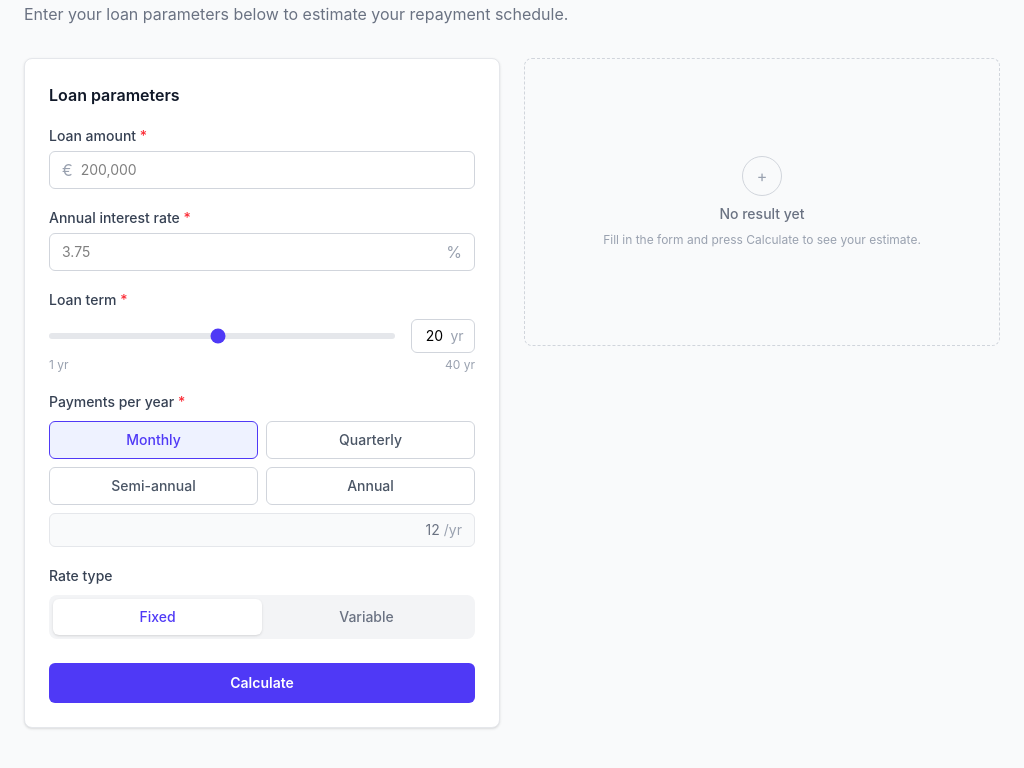
Test: CalculatorPage auto-scroll to result › does not scroll when validation fails and there is no result
The width and height of the screenshot is (1024, 768).
(page scrolled)
What coordinates should you click on to do the following:
click the button "Calculate"
I would click on:
 (262, 683)
Its box is [49,663,475,703].
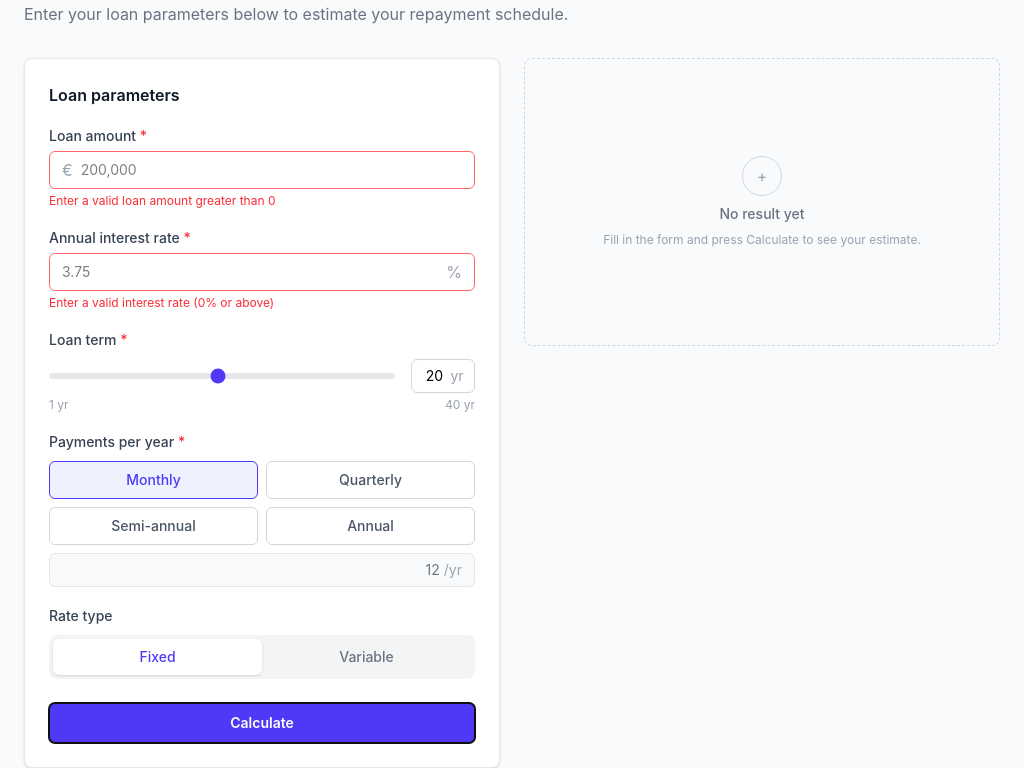
Expected: the number of messages is 2, [49,193,276,208]; [49,295,274,310]
